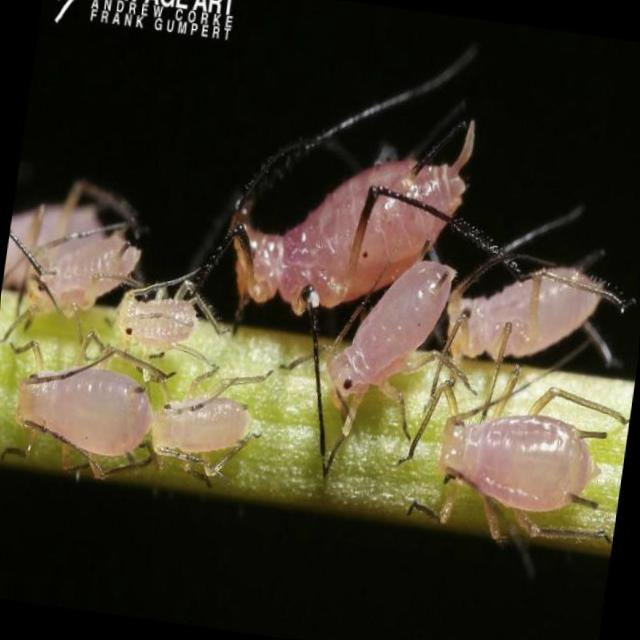aphid: (208, 102, 470, 360), (433, 196, 640, 404), (304, 235, 471, 474), (0, 312, 175, 503), (407, 374, 612, 536), (0, 200, 155, 345), (136, 354, 270, 498), (98, 264, 231, 379)
